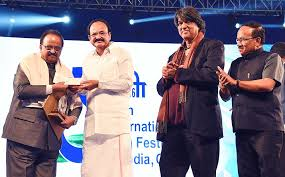Indian_Male: (89, 16, 114, 64)
